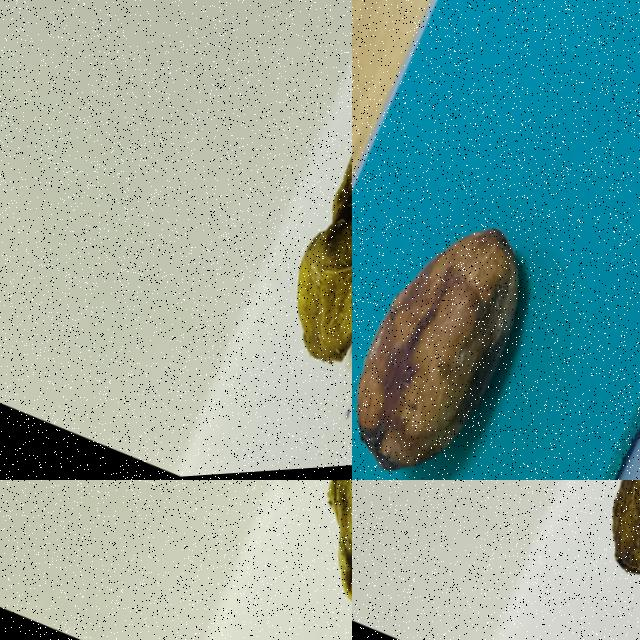Fine_cocoabeans: (352, 117, 628, 479)
Flat_cocoabeans: (142, 0, 351, 479), (494, 480, 639, 639), (218, 480, 351, 639)
